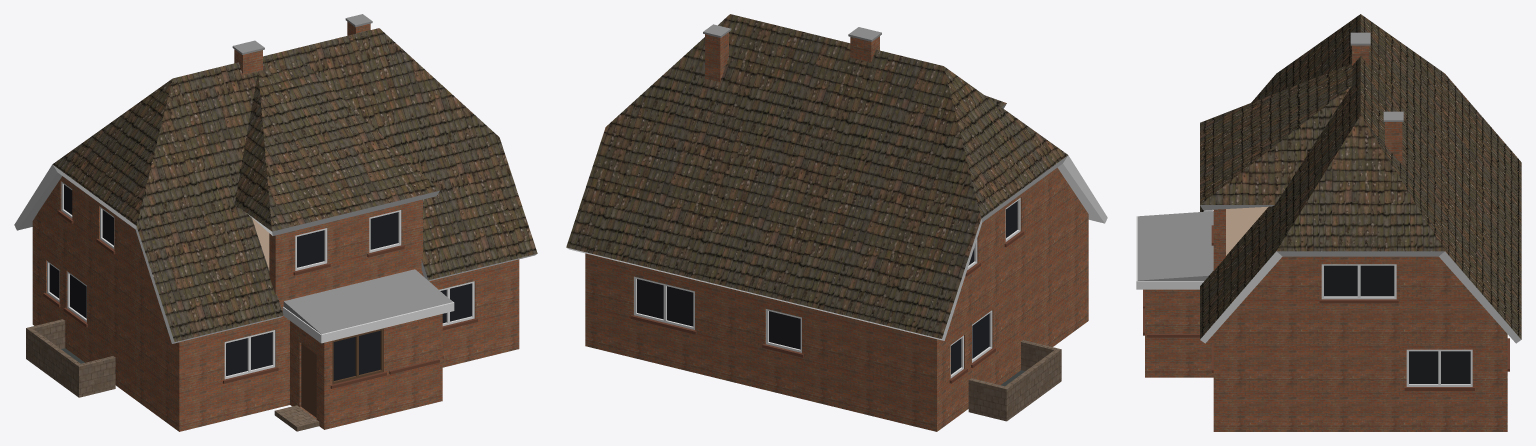
The model's file is dummy_bestand_mobile.glb.
3 views of the same model, side by side, from view 1: azimuth 30°, elevation 25°; view 2: azimuth 150°, elevation 25°; view 3: azimuth 270°, elevation 25° (orthographic). The views are drawn at different scales.
Parts seen in each view (by area): view 1: Dach_Haupt, Waende_Haupt, HG_glass, Stufe; view 2: Dach_Haupt, Waende_Haupt, HG_glass, Stufe; view 3: Dach_Haupt, Waende_Haupt, HG_glass.
Part boxes in pixels (bbox=[...]): Dach_Haupt: bbox=[14, 14, 537, 417]; Waende_Haupt: bbox=[32, 21, 519, 431]; HG_glass: bbox=[49, 184, 471, 380]; Stufe: bbox=[26, 319, 319, 431]; Dach_Haupt: bbox=[566, 14, 1107, 386]; Waende_Haupt: bbox=[585, 32, 1088, 431]; HG_glass: bbox=[637, 201, 1017, 374]; Stufe: bbox=[968, 340, 1061, 421]; Dach_Haupt: bbox=[1136, 14, 1521, 390]; Waende_Haupt: bbox=[1145, 45, 1507, 431]; HG_glass: bbox=[1324, 265, 1470, 383].
Size of the model in its own units: 13.12 by 9.67 by 11.23.
5 materials, 5 textured.
